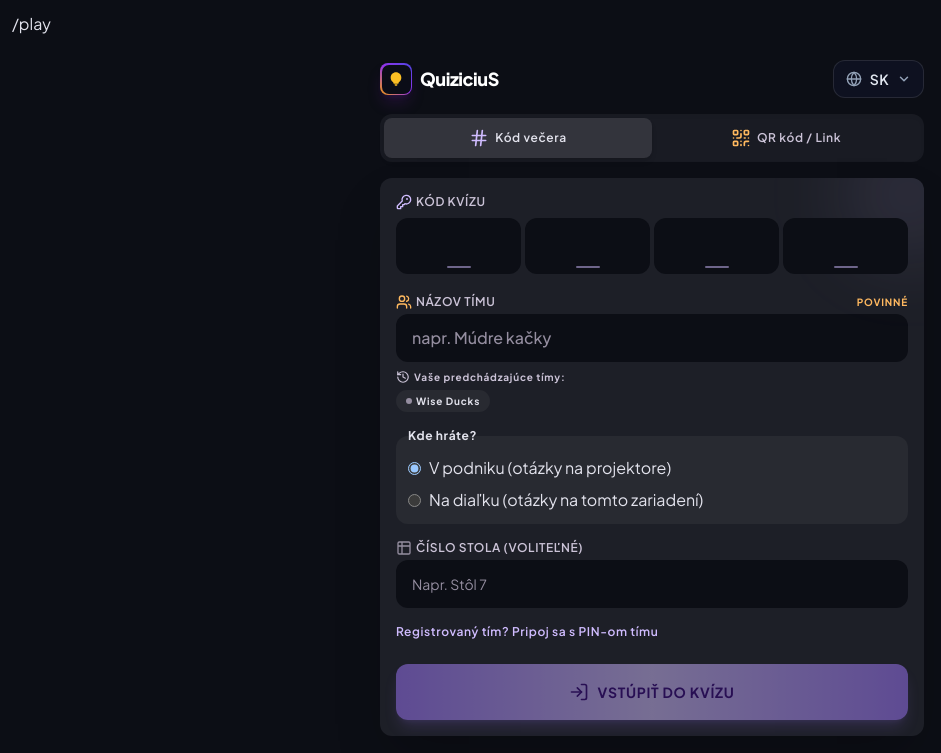
joining › offers team names used before on this device
The image size is (941, 753).
Click the button with test id "player-recent-team".
click(443, 401)  # box [396,390,490,412]
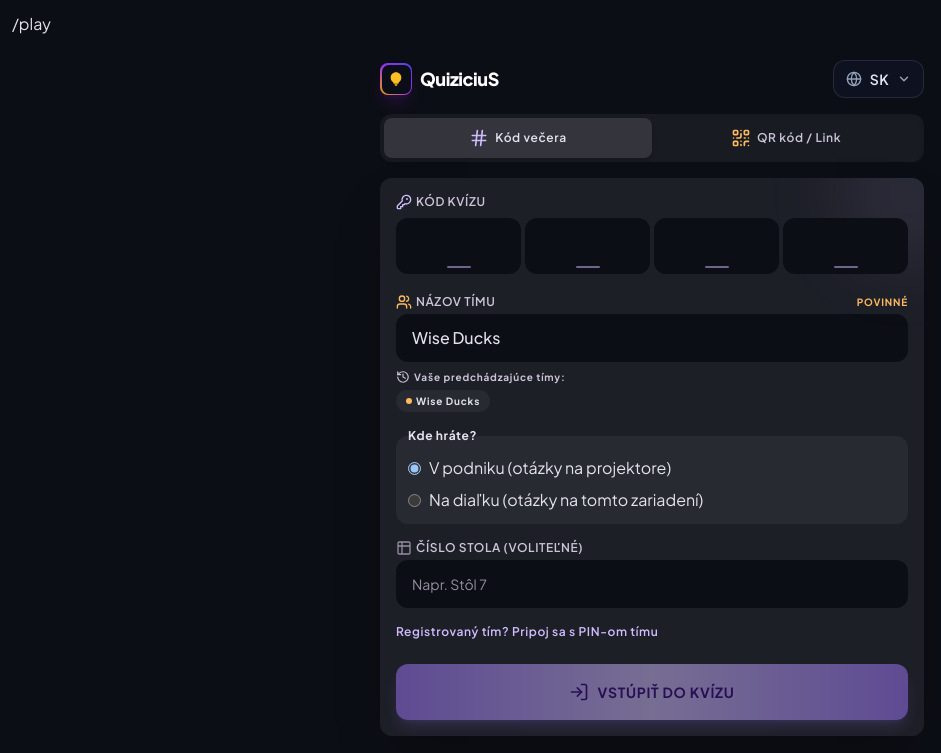
Result: the field with test id "player-team-name" holds "Wise Ducks" at [396,314,908,362]
